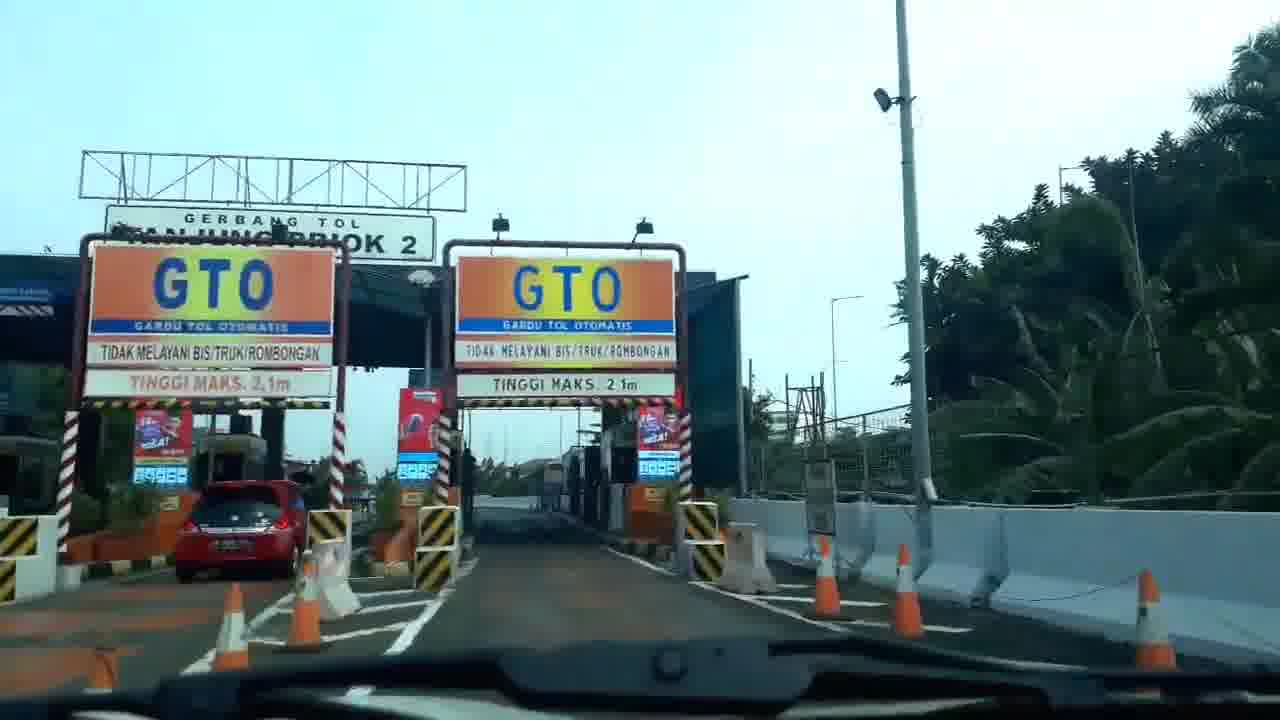plate_positive: (213, 539, 247, 554)
